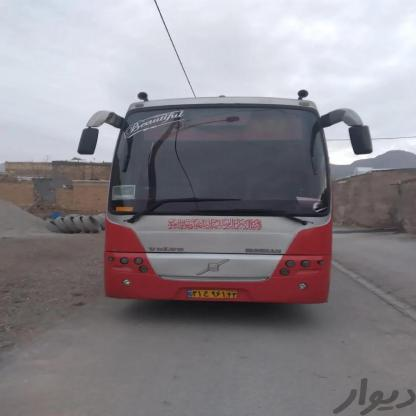Bus: (93, 83, 344, 309)
